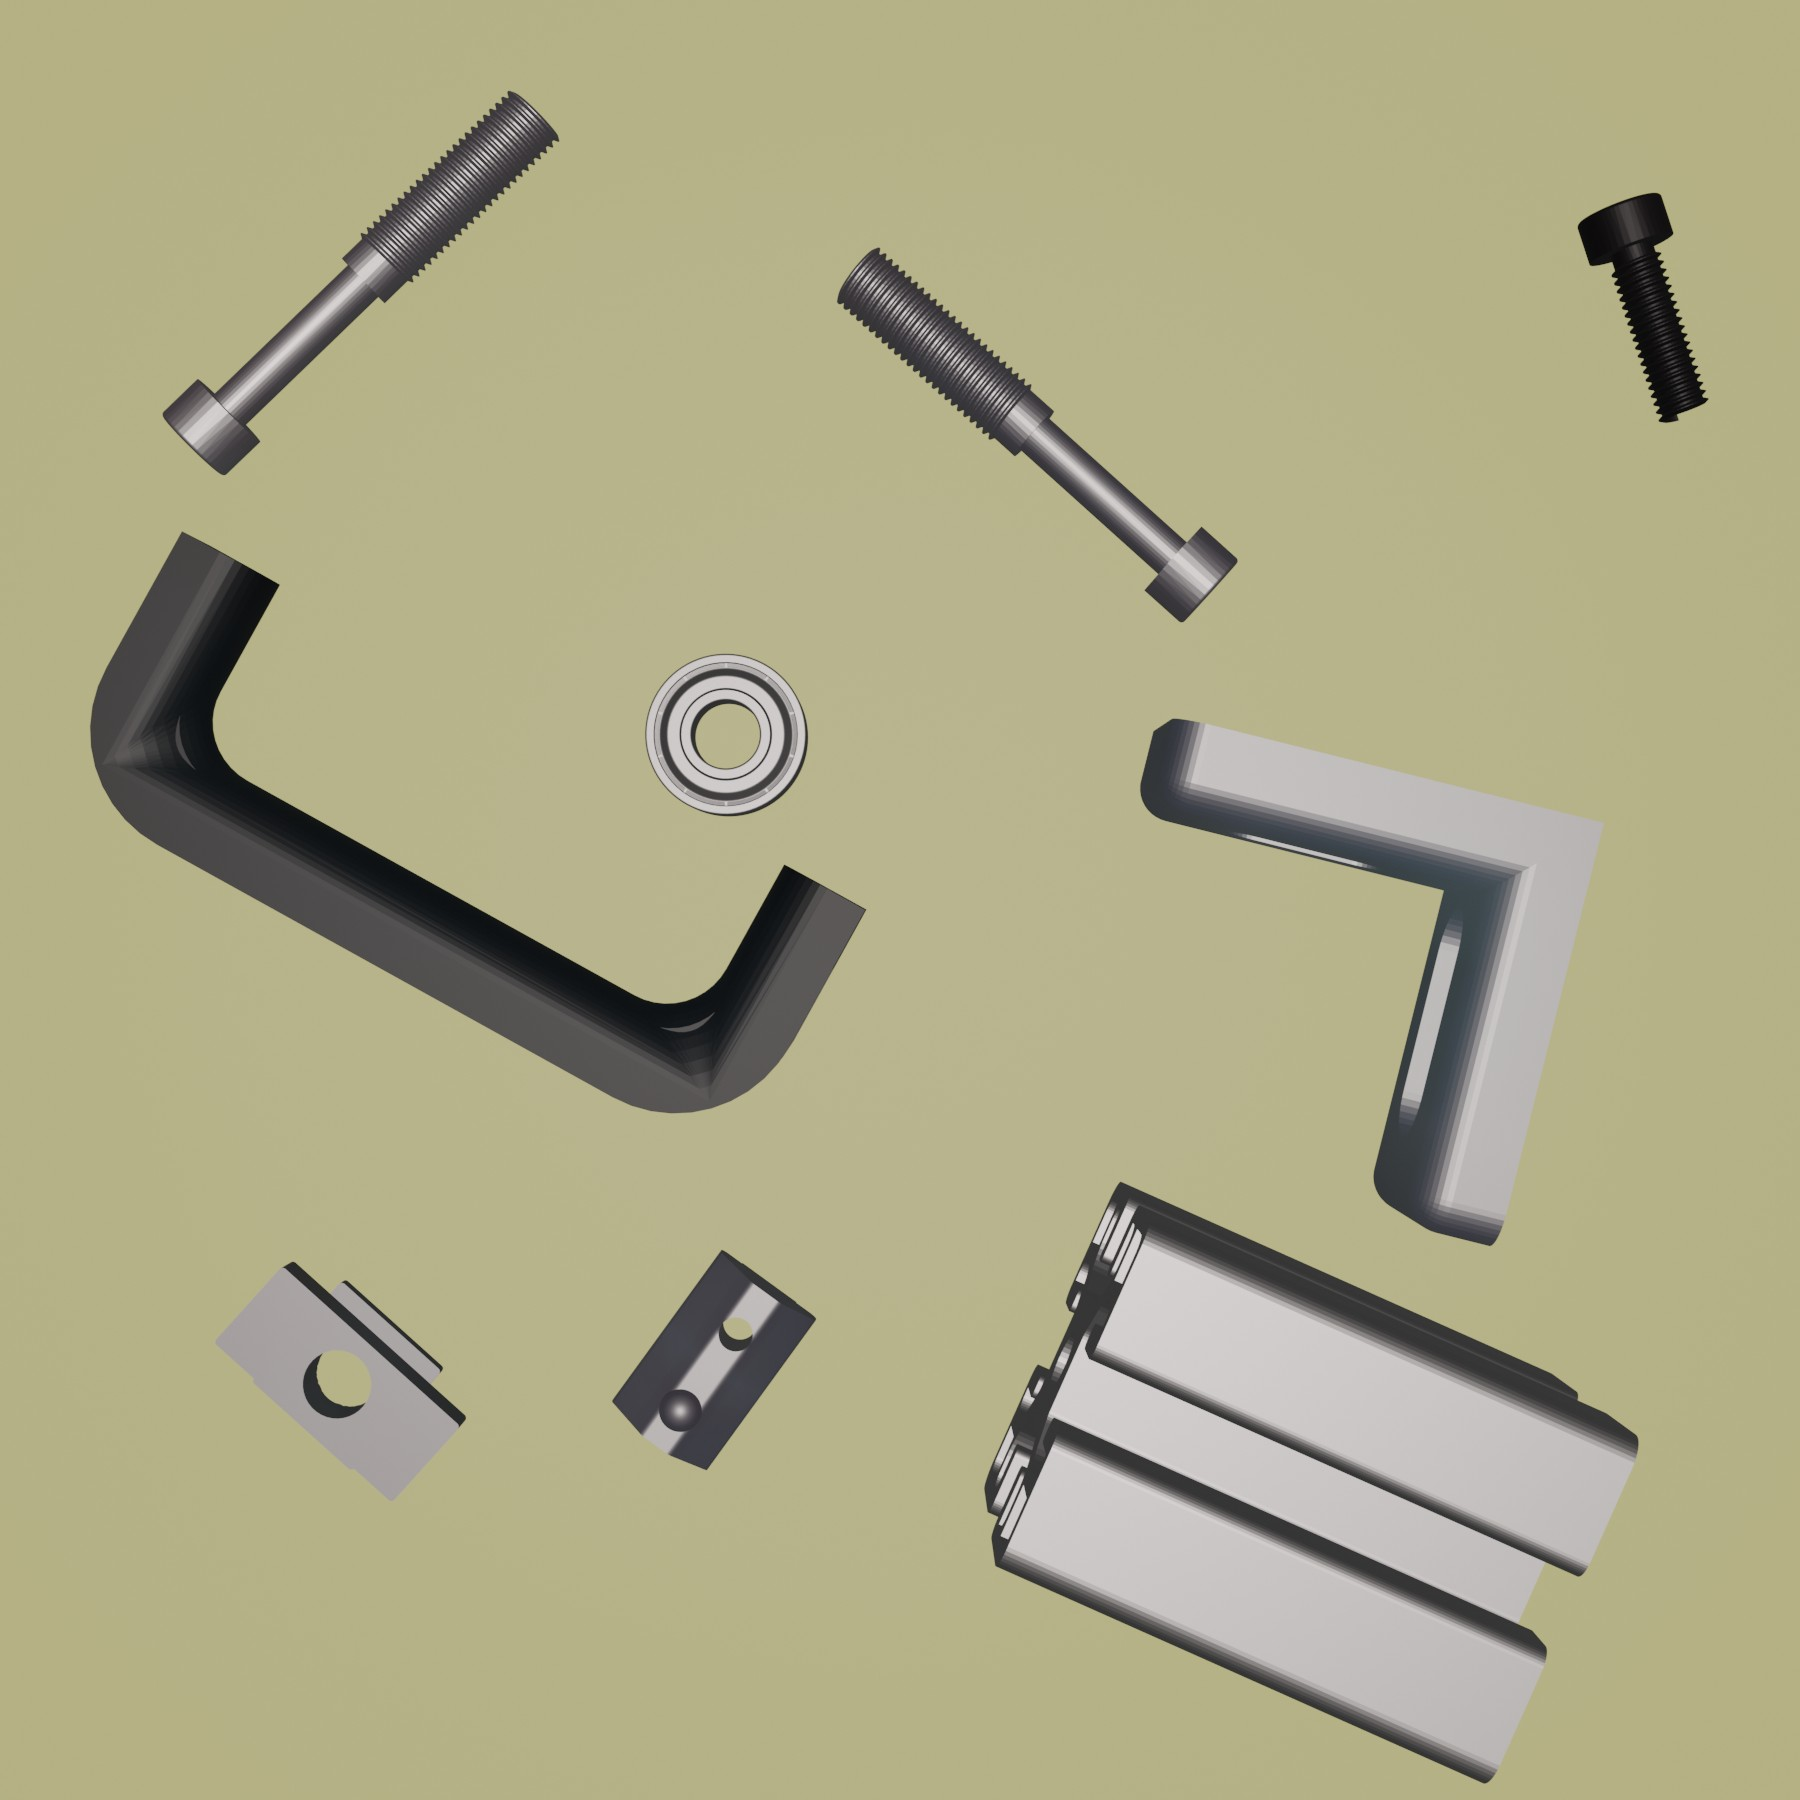Aluminium Extension: (981, 1180, 1642, 1788)
Ball Bearing: (641, 649, 811, 819)
Multiwinkel: (1137, 715, 1609, 1249)
Pull Handle: (86, 531, 867, 1114)
Shoulder Socket Head Cap Screw: (158, 86, 564, 476), (831, 246, 1240, 626)
Socket Head Cap Screw: (1573, 186, 1713, 430)
T Nut Square: (209, 1254, 466, 1505)
T Spring Nut: (608, 1245, 818, 1474)
